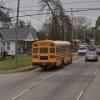Bus: (25, 37, 76, 68)
